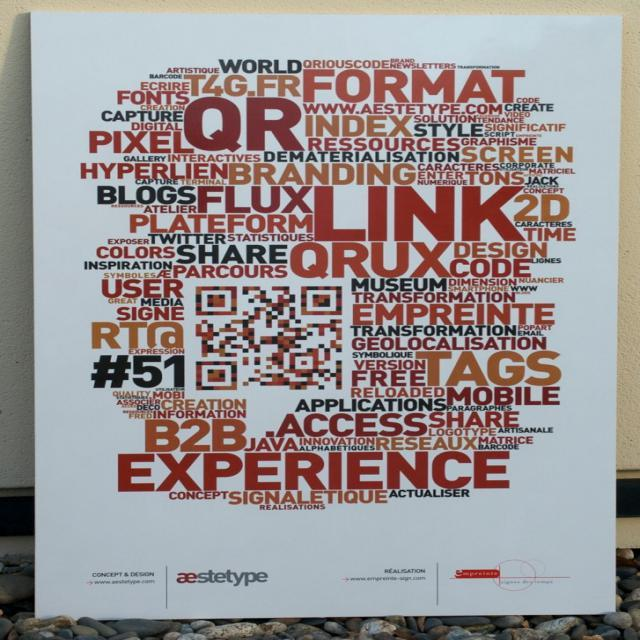qrcode: (197, 287, 343, 391)
